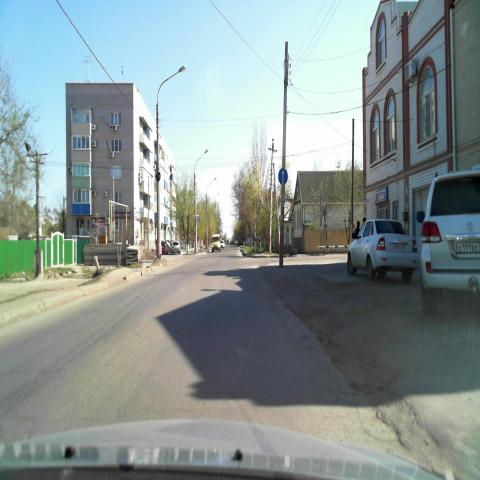4_1_1: (278, 168, 288, 186)
